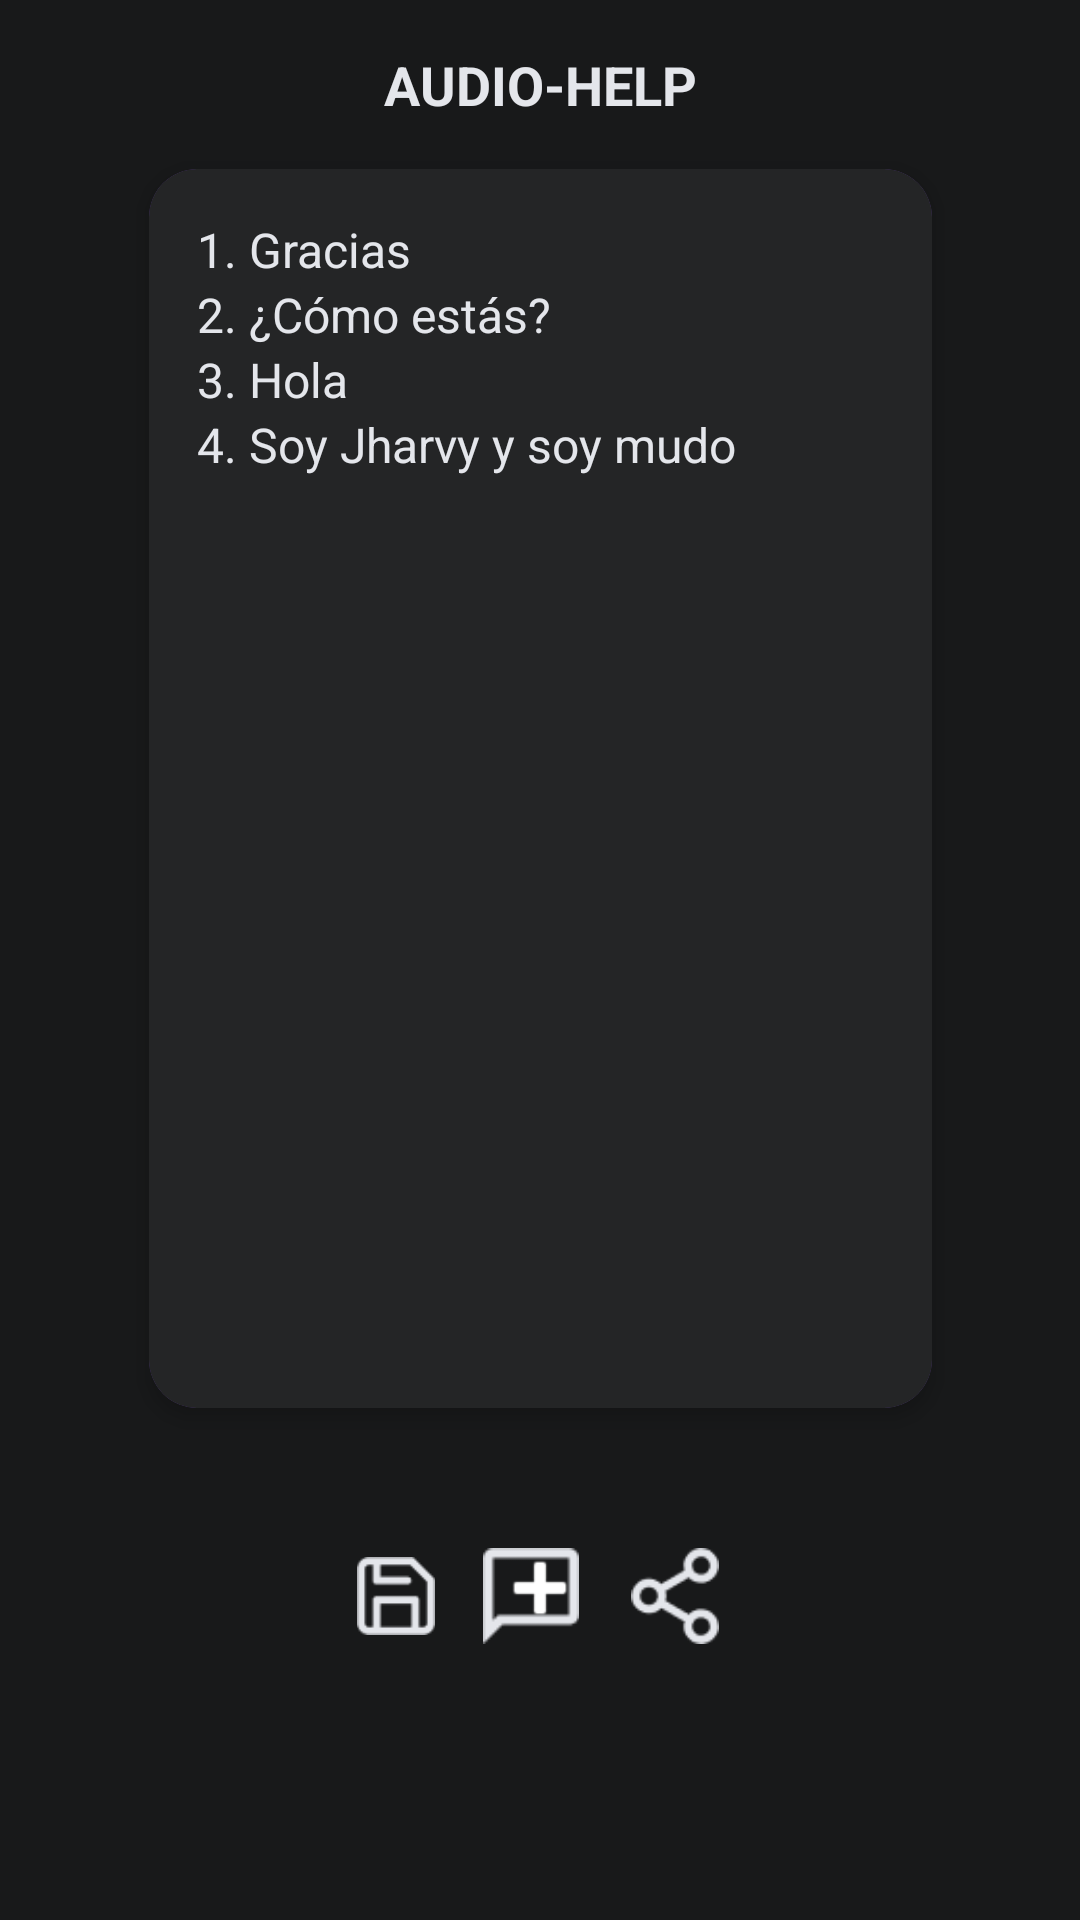

Named icons in this screenshot (1080px x 1920px) and their bounding boxes, (x1, y1, x2, y2):
save: (357, 1557, 435, 1635)
share: (631, 1548, 719, 1644)
